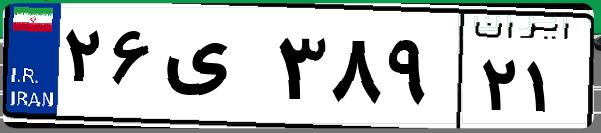1: (525, 38, 570, 115)
2: (57, 26, 110, 100), (475, 38, 525, 113)
3: (270, 28, 330, 110)
6: (110, 28, 158, 98)
8: (330, 28, 385, 110)
9: (385, 28, 445, 110)
ی: (158, 20, 270, 120)
